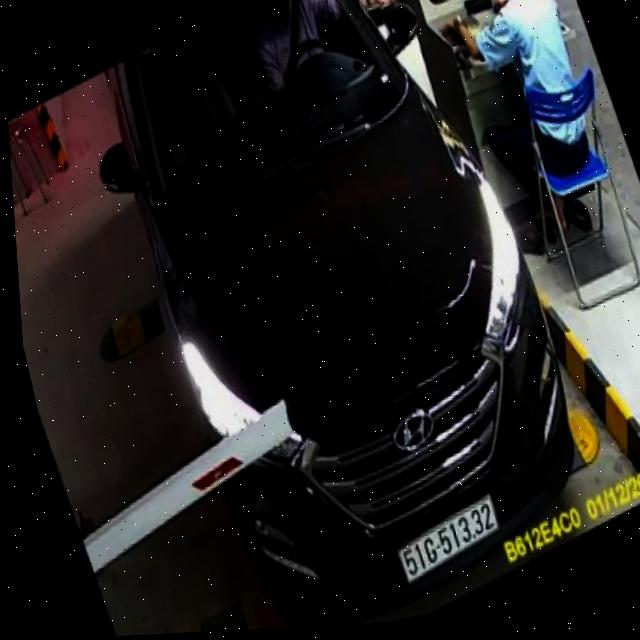car: (63, 0, 614, 637)
plate: (386, 492, 513, 589)
